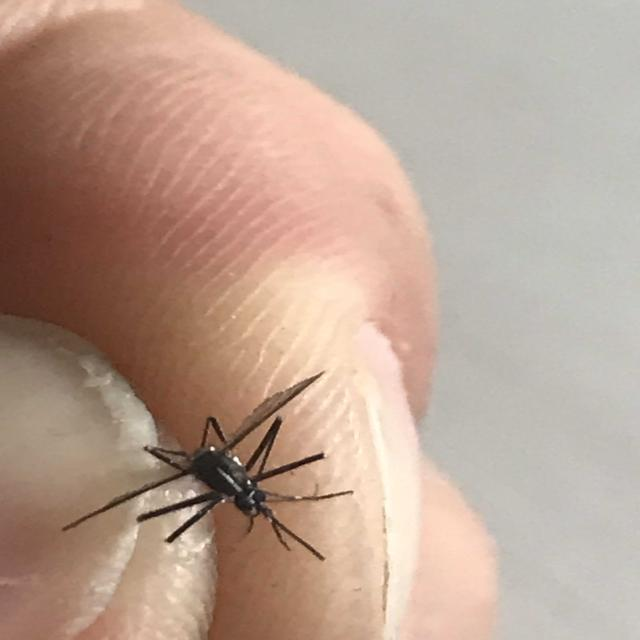albopictus: (66, 360, 361, 563)
